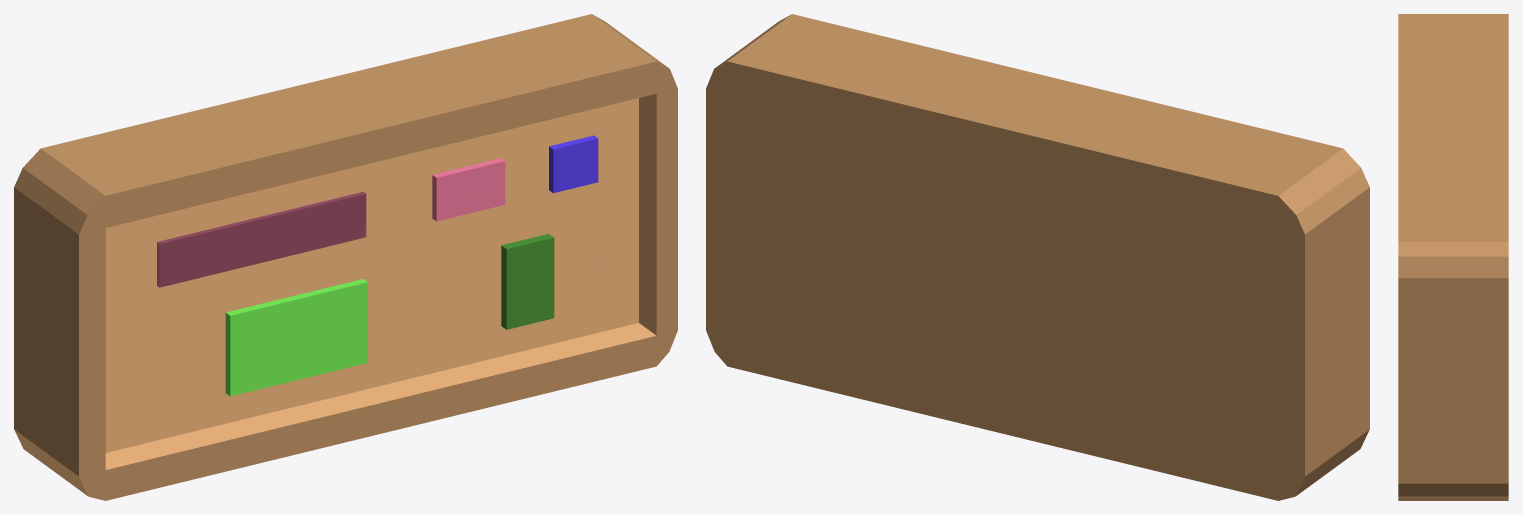
Rendered from furniture5.fbx.
3 views of the same model, side by side, from view 1: azimuth 30°, elevation 25°; view 2: azimuth 150°, elevation 25°; view 3: azimuth 270°, elevation 25° (orthographic). The views are drawn at different scales.
Visible parts, largest first — view 1: Cube; view 2: Cube; view 3: Cube.
Boxes of the visible parts, bbox=[...] form: Cube: bbox=[14, 14, 677, 500]; Cube: bbox=[706, 14, 1369, 500]; Cube: bbox=[1398, 14, 1508, 500].
Size of the model in its own units: 205 by 100 by 38.55.
